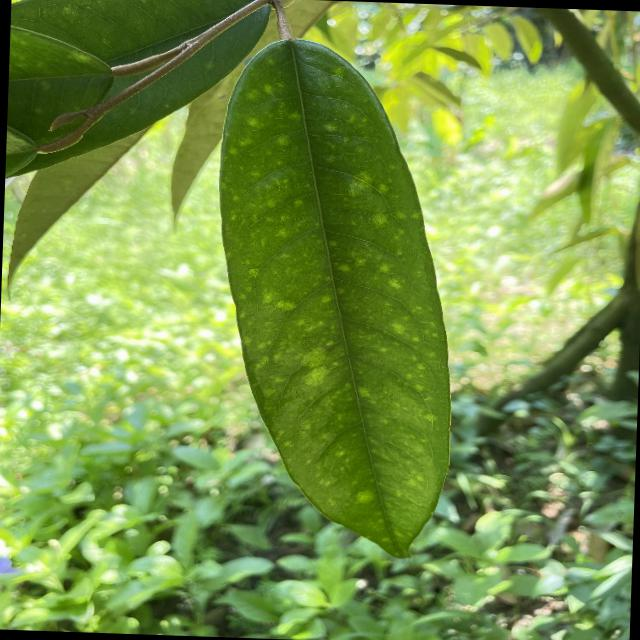Leaf Spot: (198, 18, 468, 560)
